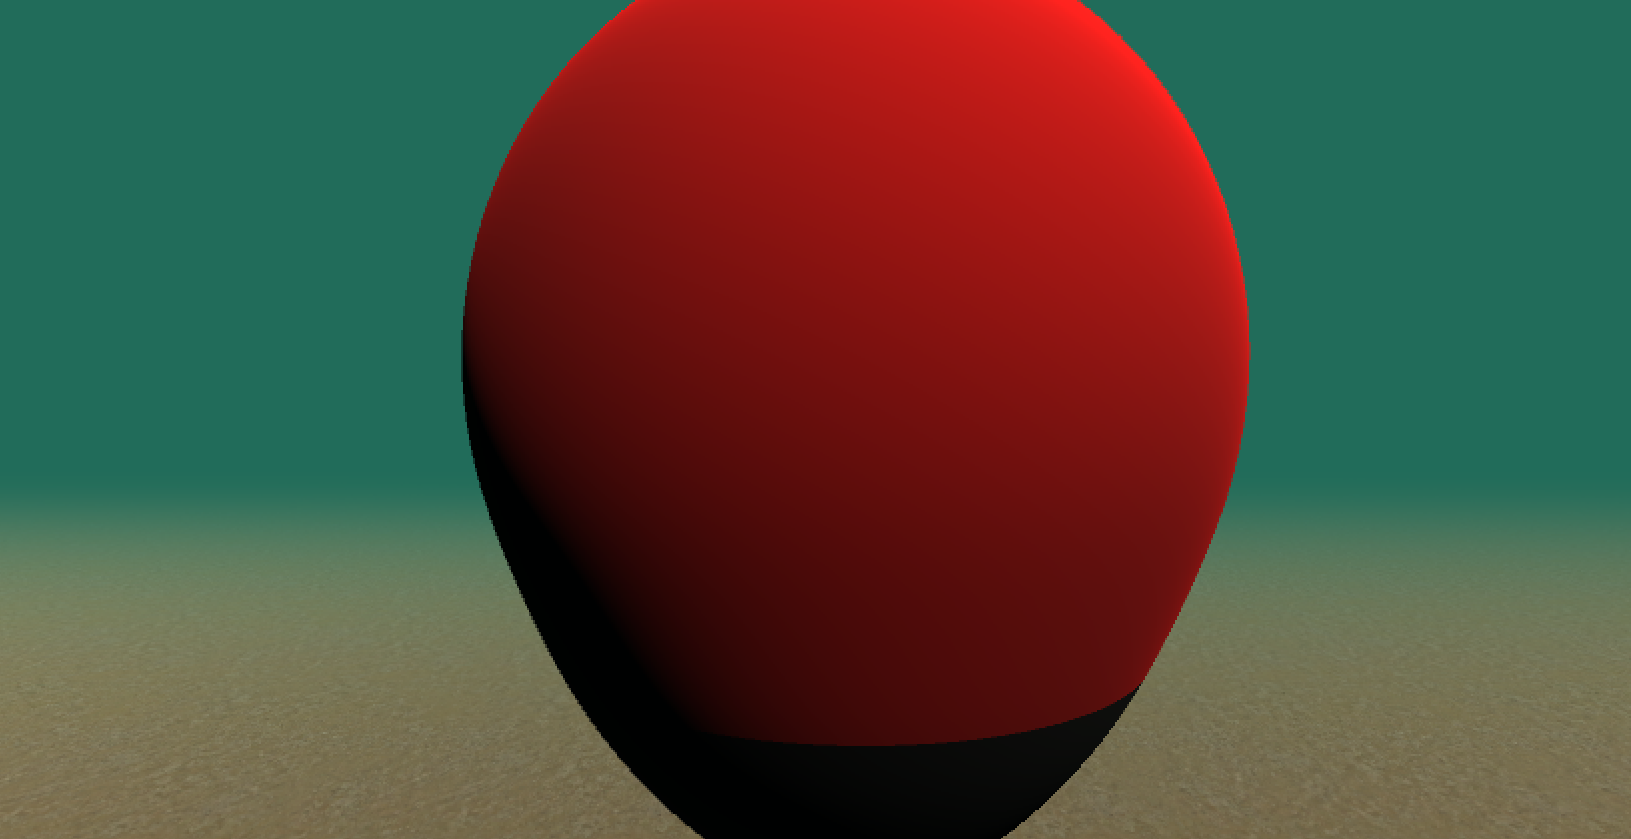red buoy: (453, 3, 1258, 834)
